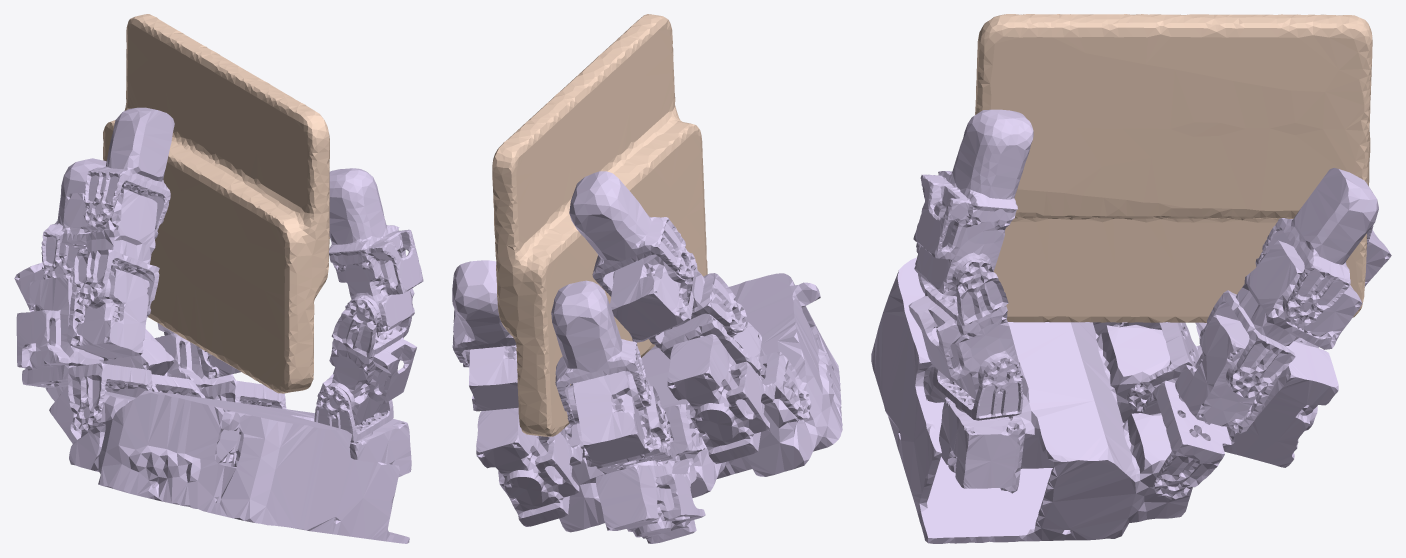
The picture shows the model from 3 angles, left to right: view 1: azimuth 30°, elevation 25°; view 2: azimuth 150°, elevation 25°; view 3: azimuth 270°, elevation 25°; orthographic projection. The views are drawn at different scales.
Visible parts, largest first — view 1: LEAP_hand, world; view 2: LEAP_hand, world; view 3: LEAP_hand, world.
Boxes of the visible parts, x1,y1,x2,y2 form: LEAP_hand: (14, 107, 423, 543); world: (103, 14, 329, 393); LEAP_hand: (452, 171, 842, 543); world: (492, 14, 707, 436); LEAP_hand: (871, 109, 1391, 543); world: (975, 14, 1372, 322).
Bounding box in the file's own units: 0.146 × 0.2135 × 0.1984.
